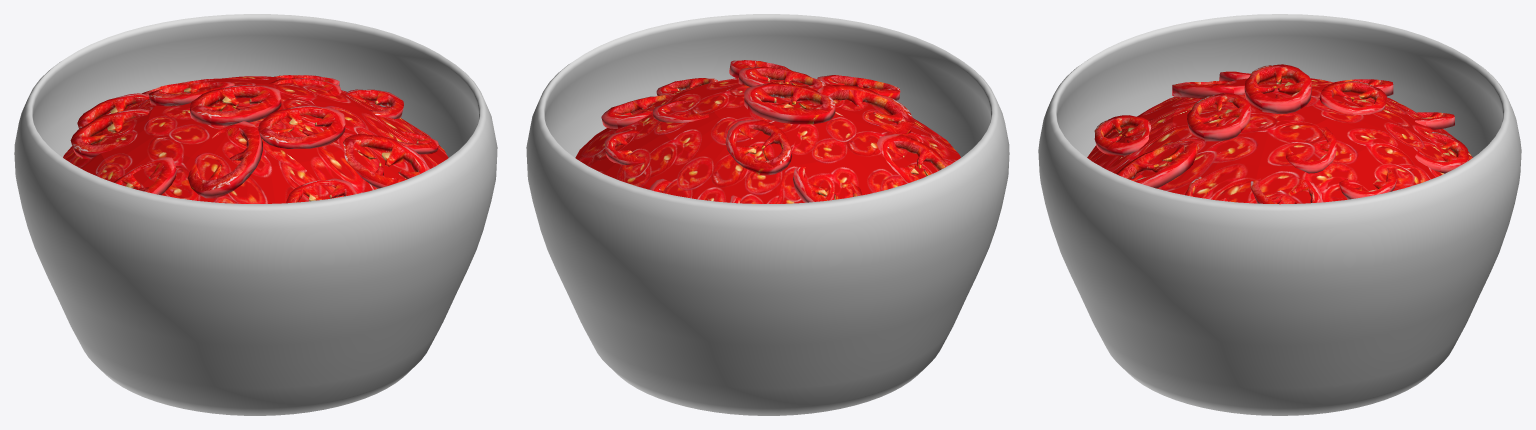
File: hot_pepper_bowl.fbx
3 views of the same model, side by side, from view 1: azimuth 30°, elevation 25°; view 2: azimuth 150°, elevation 25°; view 3: azimuth 270°, elevation 25° (orthographic).
Parts seen in each view (by area): view 1: Sphere, Sphere.001, hot_pepper.012, hot_pepper.008, hot_pepper.003, hot_pepper.006, hot_pepper.005, hot_pepper.002, hot_pepper.004, hot_pepper.009, hot_pepper.007, hot_pepper.001 (+2 smaller); view 2: Sphere, Sphere.001, hot_pepper.012, hot_pepper.002, hot_pepper.006, hot_pepper.004, hot_pepper.008, hot_pepper.009, hot_pepper.005, hot_pepper.007, hot_pepper.010, hot_pepper (+2 smaller); view 3: Sphere, Sphere.001, hot_pepper.012, hot_pepper.008, hot_pepper.003, hot_pepper.007, hot_pepper.002, hot_pepper.013, hot_pepper.006, hot_pepper, hot_pepper.009, hot_pepper.010 (+1 smaller).
Boxes of the visible parts, x1=… form: Sphere: x1=14, y1=14, x2=497, y2=415; Sphere.001: x1=63, y1=76, x2=448, y2=203; hot_pepper.012: x1=190, y1=85, x2=281, y2=125; hot_pepper.008: x1=258, y1=105, x2=345, y2=148; hot_pepper.003: x1=343, y1=133, x2=429, y2=188; hot_pepper.006: x1=187, y1=121, x2=262, y2=198; hot_pepper.005: x1=70, y1=108, x2=149, y2=159; hot_pepper.002: x1=149, y1=82, x2=234, y2=106; hot_pepper.004: x1=114, y1=157, x2=176, y2=194; hot_pepper.009: x1=345, y1=89, x2=403, y2=118; hot_pepper.007: x1=286, y1=178, x2=356, y2=203; hot_pepper.001: x1=77, y1=93, x2=149, y2=128; Sphere: x1=526, y1=14, x2=1009, y2=415; Sphere.001: x1=575, y1=78, x2=960, y2=203; hot_pepper.012: x1=744, y1=82, x2=835, y2=124; hot_pepper.002: x1=725, y1=119, x2=791, y2=175; hot_pepper.006: x1=813, y1=85, x2=914, y2=134; hot_pepper.004: x1=877, y1=134, x2=948, y2=183; hot_pepper.008: x1=738, y1=66, x2=825, y2=90; hot_pepper.009: x1=601, y1=94, x2=676, y2=128; hot_pepper.005: x1=793, y1=166, x2=861, y2=202; hot_pepper.007: x1=817, y1=75, x2=900, y2=100; hot_pepper.010: x1=604, y1=129, x2=645, y2=164; hot_pepper: x1=653, y1=100, x2=709, y2=122; Sphere: x1=1038, y1=14, x2=1521, y2=415; Sphere.001: x1=1087, y1=78, x2=1472, y2=204; hot_pepper.012: x1=1244, y1=64, x2=1311, y2=113; hot_pepper.008: x1=1187, y1=93, x2=1250, y2=141; hot_pepper.003: x1=1116, y1=140, x2=1197, y2=188; hot_pepper.007: x1=1094, y1=115, x2=1151, y2=156; hot_pepper.002: x1=1319, y1=81, x2=1386, y2=114; hot_pepper.013: x1=1415, y1=132, x2=1468, y2=173; hot_pepper.006: x1=1172, y1=81, x2=1244, y2=98; hot_pepper: x1=1286, y1=127, x2=1336, y2=173; hot_pepper.009: x1=1250, y1=177, x2=1322, y2=203; hot_pepper.010: x1=1339, y1=168, x2=1396, y2=199.
Size of the model in its own units: 39.86 by 23.41 by 39.86.
16 materials, 15 textured.
